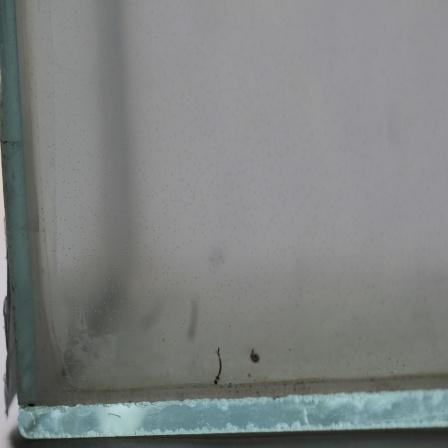Jentik-Nyamuk: (206, 344, 227, 391), (247, 344, 263, 367)
